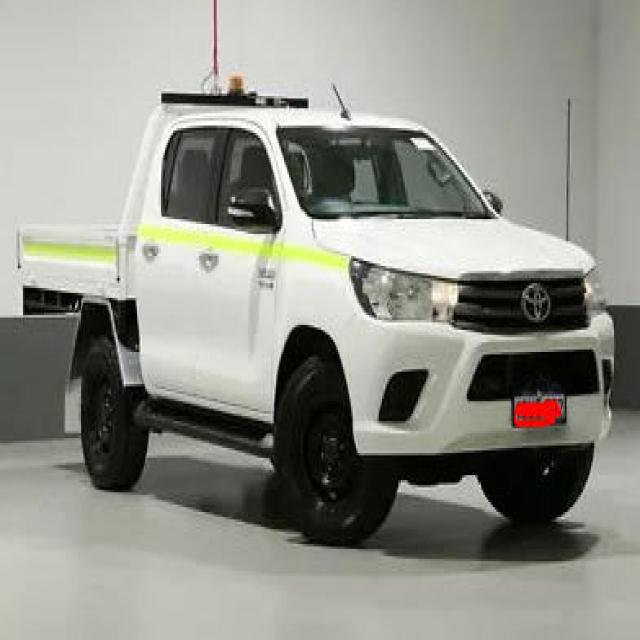light_vehicle: (7, 71, 616, 562)
